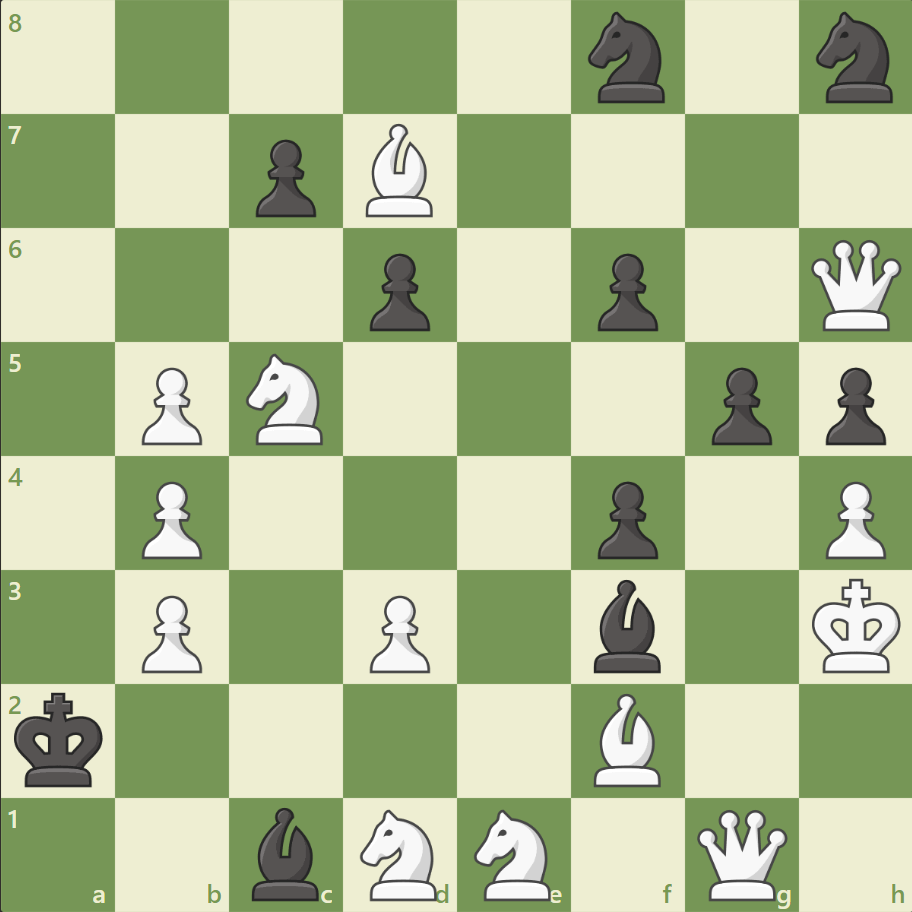B: (585, 687, 669, 790), (358, 120, 442, 222)
K: (806, 571, 906, 679)
N: (351, 802, 449, 904), (238, 348, 335, 450), (465, 802, 562, 904)
P: (133, 359, 208, 450), (133, 473, 208, 564), (133, 586, 208, 677), (815, 473, 889, 564), (361, 586, 435, 677)
Q: (805, 236, 904, 335), (691, 804, 790, 903)
b: (244, 801, 328, 904), (585, 574, 669, 676)
k: (11, 685, 111, 793)
n: (579, 7, 676, 110), (806, 7, 903, 110)
p: (247, 132, 322, 223), (701, 359, 776, 450), (361, 246, 435, 337), (588, 246, 662, 337), (815, 359, 889, 450), (588, 473, 662, 564)
